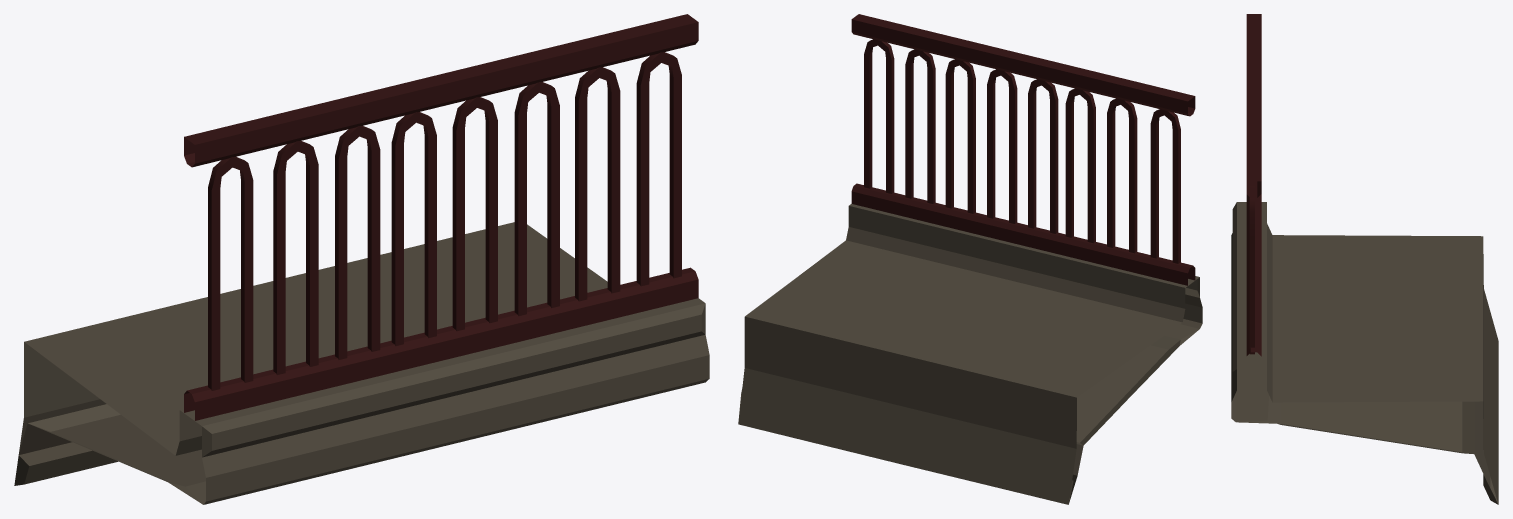
Rendered from P_BalconTransition.FBX.
The picture shows the model from 3 angles, left to right: view 1: azimuth 30°, elevation 25°; view 2: azimuth 150°, elevation 25°; view 3: azimuth 270°, elevation 25°; orthographic projection. The views are drawn at different scales.
Parts seen in each view (by area): view 1: Box106; view 2: Box106; view 3: Box106.
Boxes of the visible parts, bbox=[...] form: Box106: bbox=[14, 14, 709, 504]; Box106: bbox=[738, 14, 1202, 504]; Box106: bbox=[1231, 14, 1498, 504].
Bounding box in the file's own units: 197 × 178 × 132.
